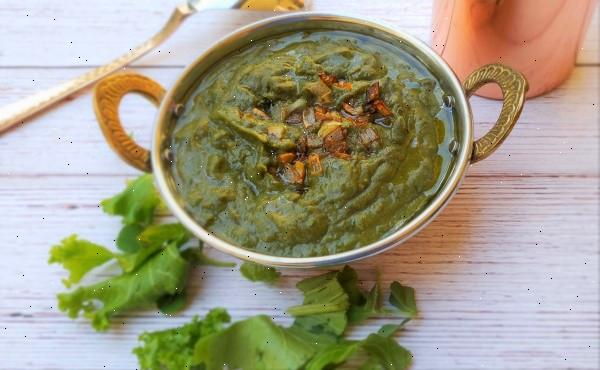saag: (169, 28, 453, 258)
